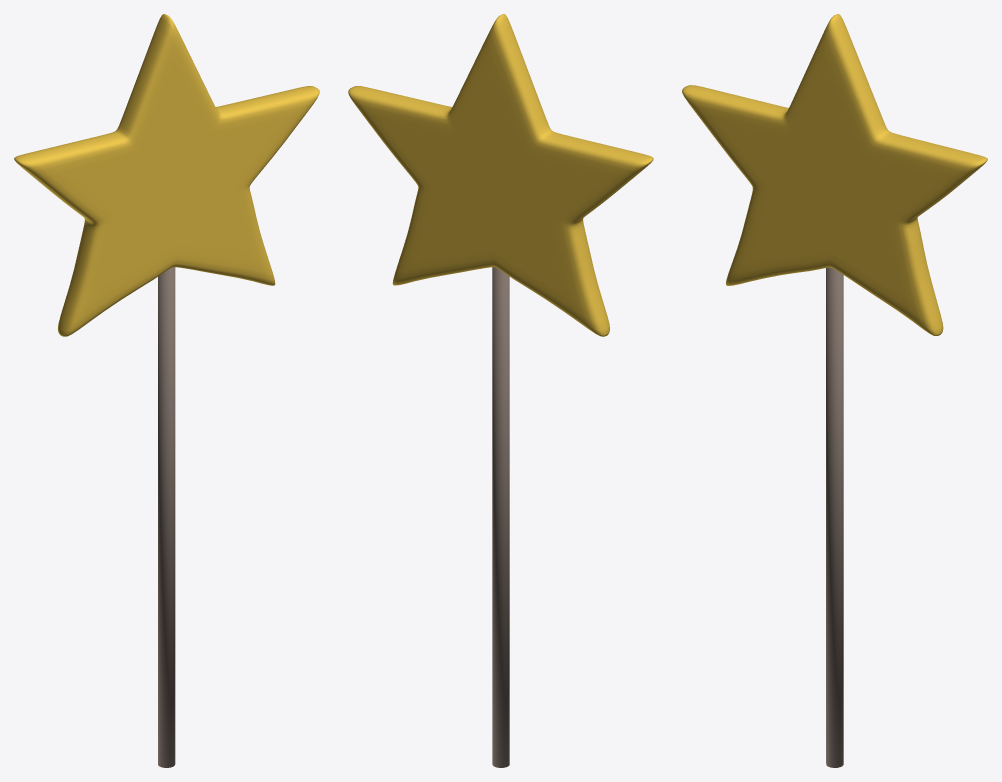
The model's file is lizak gwiazdka.fbx.
The picture shows the model from 3 angles, left to right: view 1: azimuth 30°, elevation 25°; view 2: azimuth 150°, elevation 25°; view 3: azimuth 330°, elevation 25°; orthographic projection.
Visible parts, largest first — view 1: Cylinder; view 2: Cylinder; view 3: Cylinder.
Boxes of the visible parts, x1,y1,x2,y2 form: Cylinder: [14, 14, 319, 767]; Cylinder: [348, 14, 653, 767]; Cylinder: [682, 14, 987, 767].
Size of the model in its own units: 167 by 397 by 13.66.
